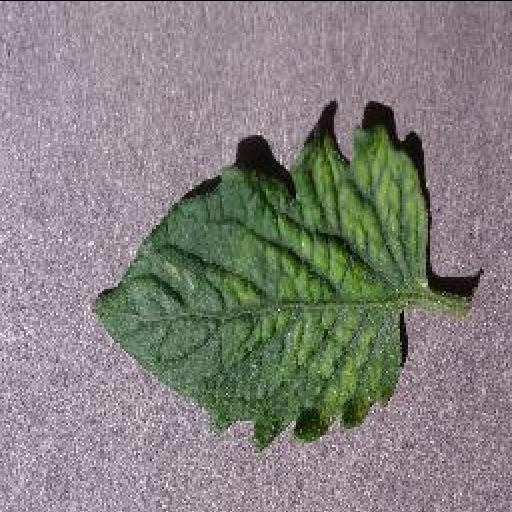disease_tomato: (92, 124, 430, 452)
